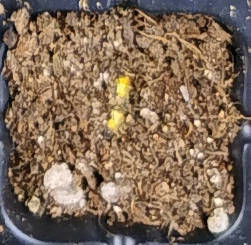pepper seed: (42, 39, 171, 171), (46, 23, 181, 123)
